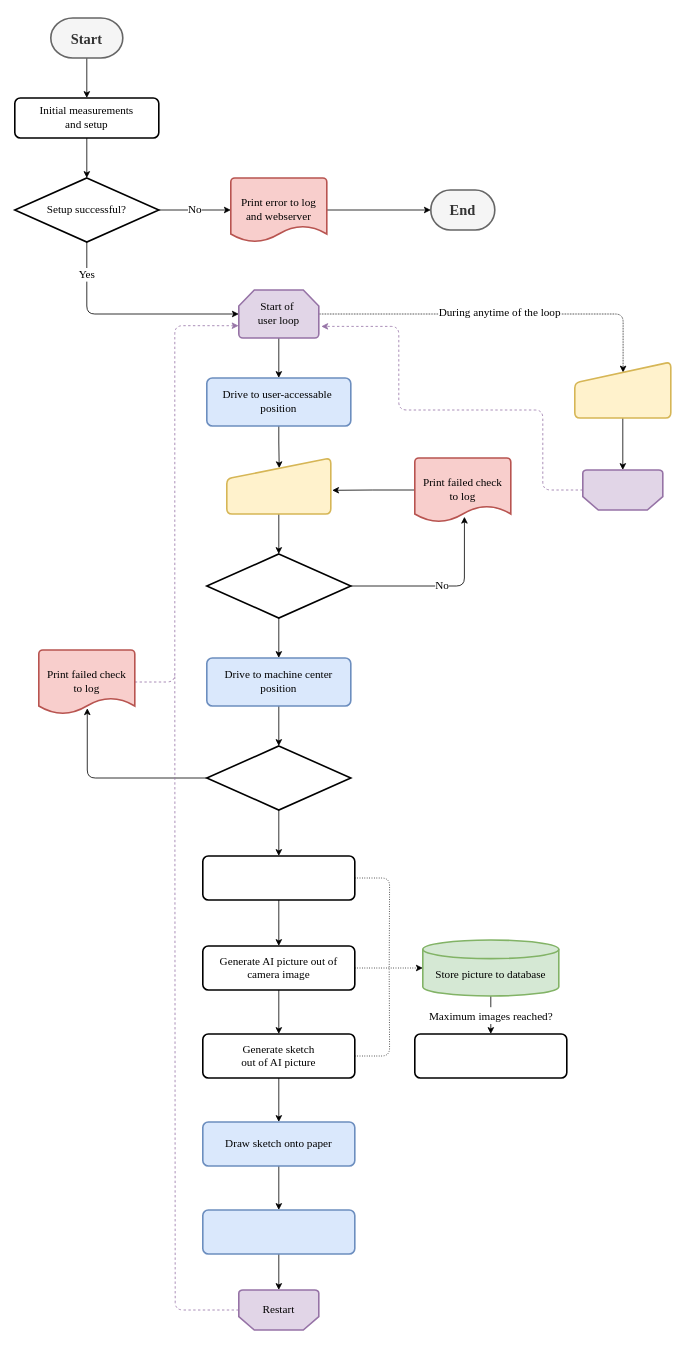
Image size: 685x1345. Some labels were removed from this diagram. Here are the shapes that lost their labels. From the top down, the centre of each, then its label:
At pixel 622 389: "User presses interrupt button".
At pixel 278 485: "User presses start button".
At pixel 622 489: "Terminate and restart".
At pixel 278 585: "Has paper? (simple check)".
At pixel 278 777: "Has paper? (Advanced check)".
At pixel 278 877: "Take picture with tool camera".
At pixel 490 1055: "Delete oldest images".
At pixel 278 1231: "Output the paper to user".
